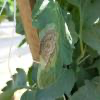Potato leaf late blight: (31, 0, 80, 91)
